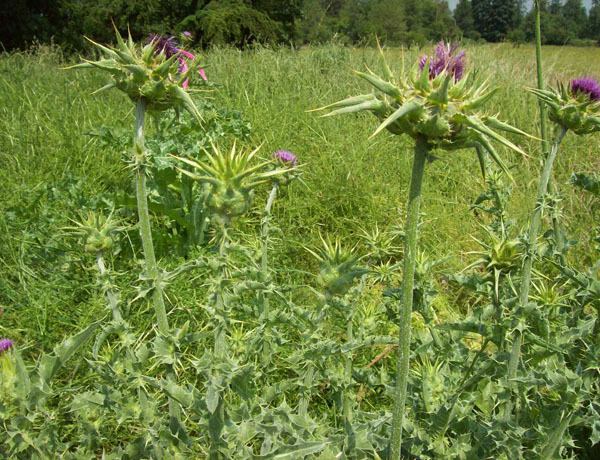thistle: (358, 40, 464, 156), (91, 20, 198, 118), (538, 69, 600, 141), (262, 149, 304, 194)
